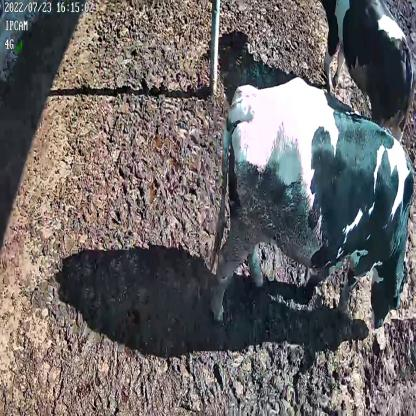cow: (205, 75, 416, 329), (319, 0, 415, 148)
